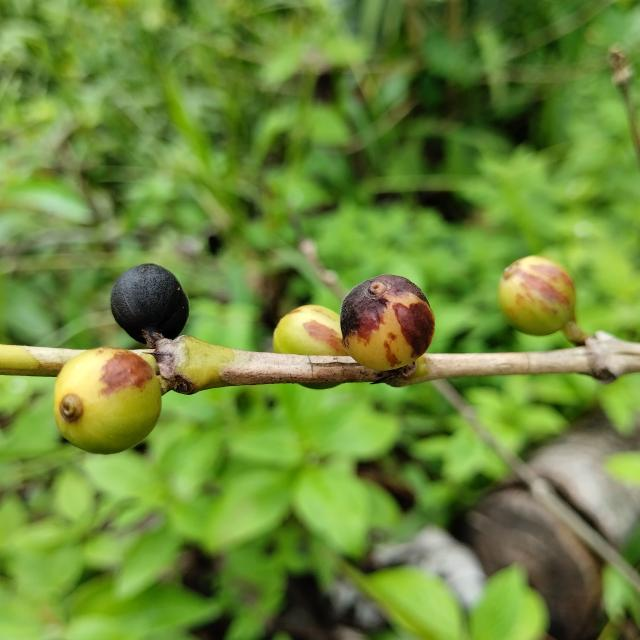Overripe: (53, 347, 161, 455), (340, 274, 435, 371), (110, 264, 189, 348), (499, 255, 576, 336), (273, 305, 348, 356), (304, 383, 339, 389)
